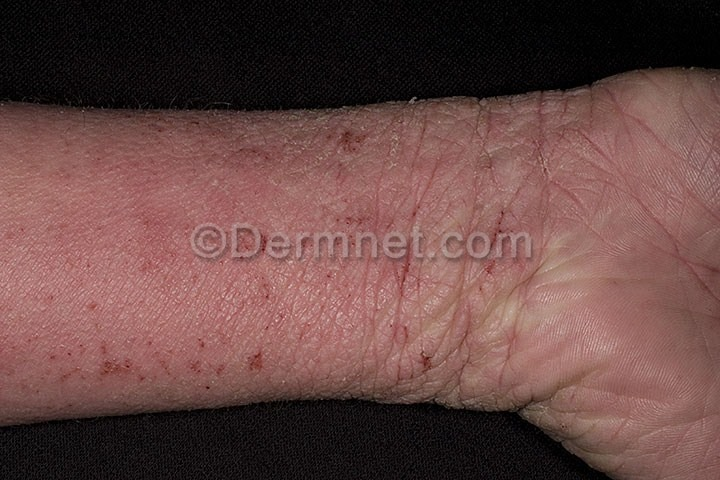Eczema: (4, 101, 567, 402)
